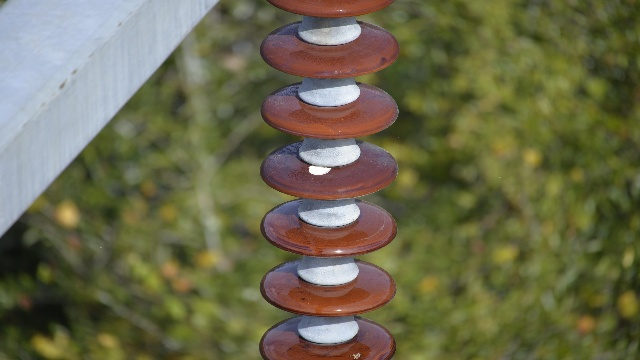broken_local: (305, 162, 334, 177)
insulator_unspecified: (260, 0, 397, 358)
